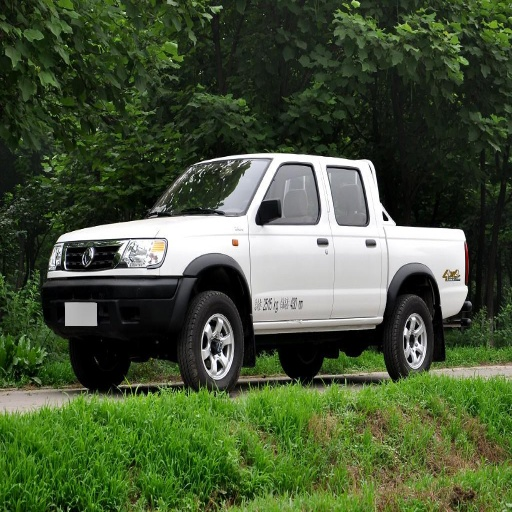front_bumper: (43, 238, 192, 340)
front_glass: (159, 159, 268, 214)
front_left_door: (251, 162, 332, 321)
trunk: (362, 225, 466, 319)
